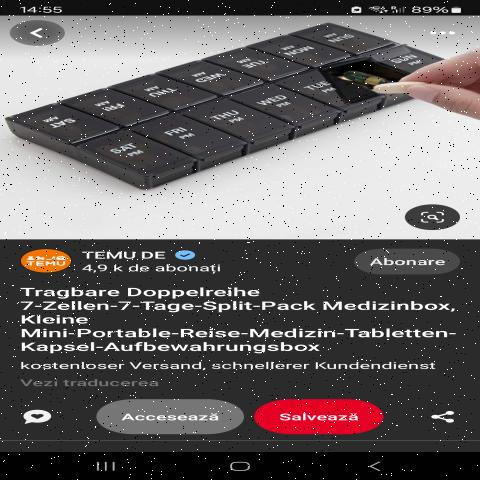Pill-box: (8, 18, 453, 208)
